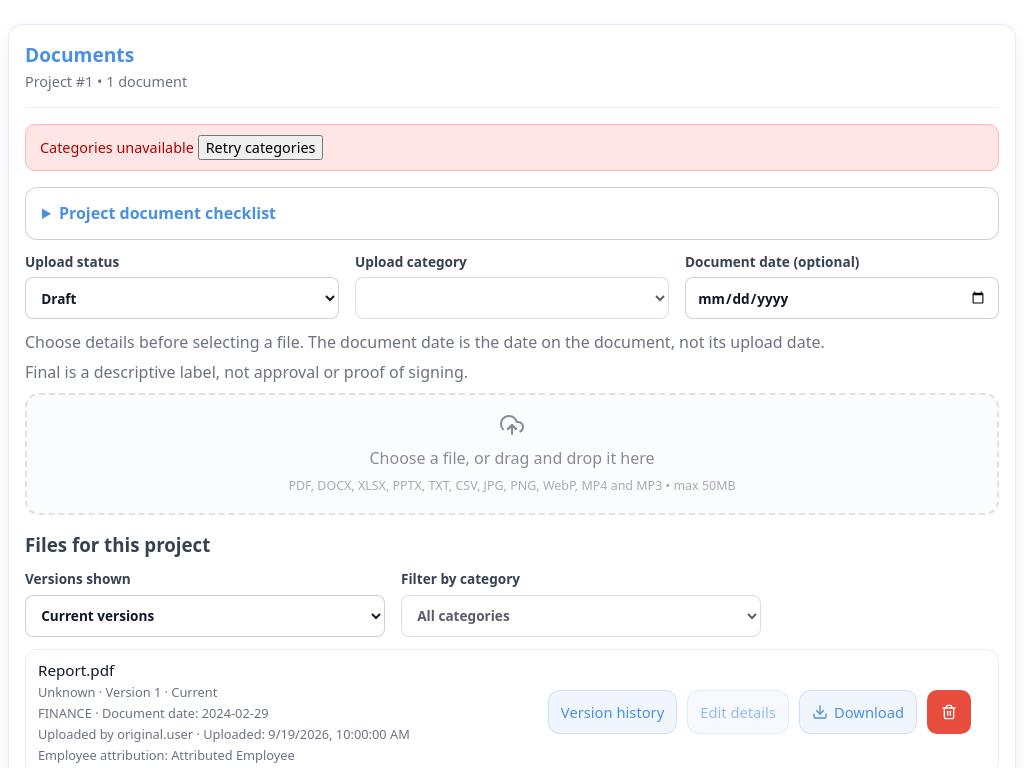
Test: lookup failure can be retried without losing access to downloads
The width and height of the screenshot is (1024, 768).
Expected: the message shows "Categories unavailable", [40, 138, 194, 157]
Expected: the button "Download" is enabled, [799, 690, 917, 734]
What coordinates should you click on to do the following:
click the button "Retry categories"
I would click on:
 (260, 148)
Its box is [198, 135, 323, 160].
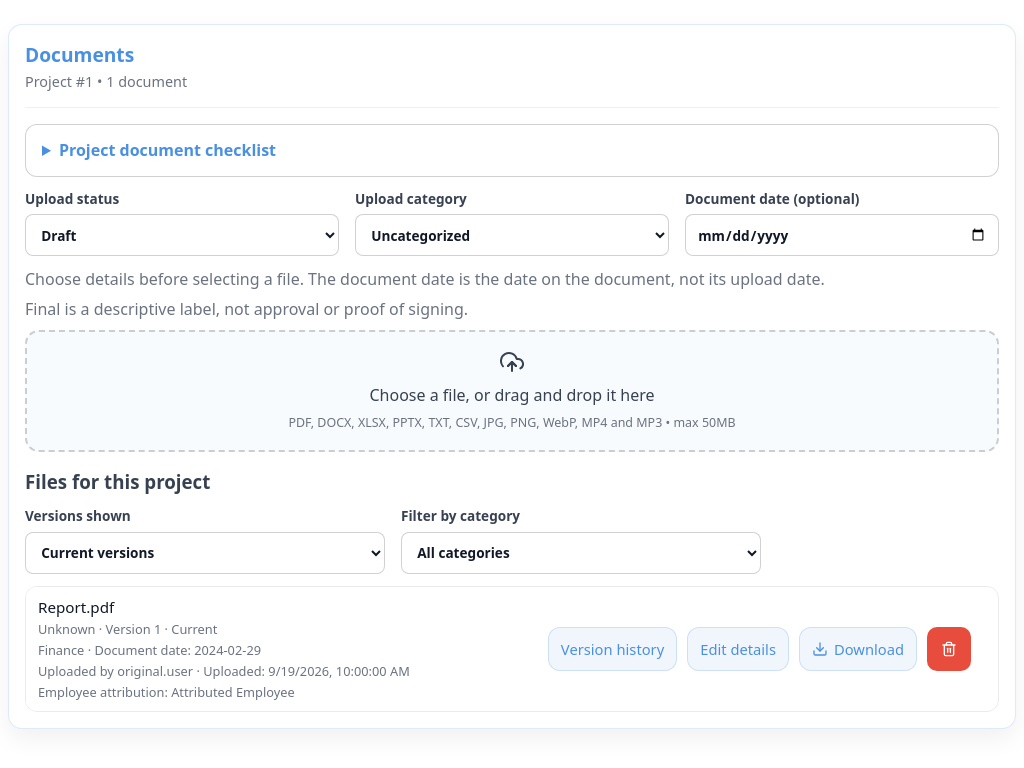
Expected: the dropdown labelled "Filter by category" is enabled, [401, 532, 761, 574]
